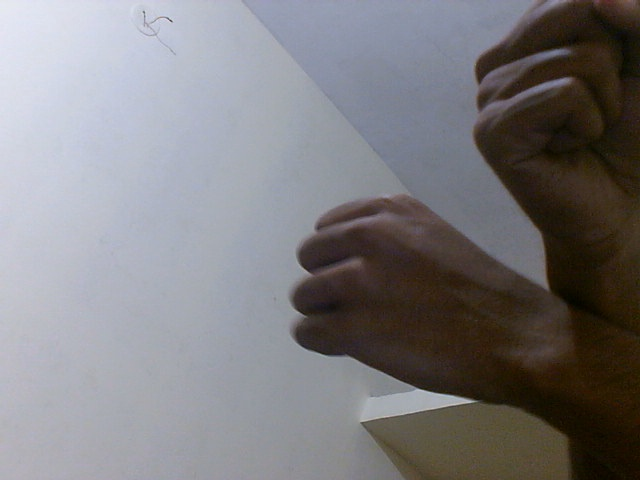hand: (289, 191, 560, 412), (472, 1, 640, 272)
